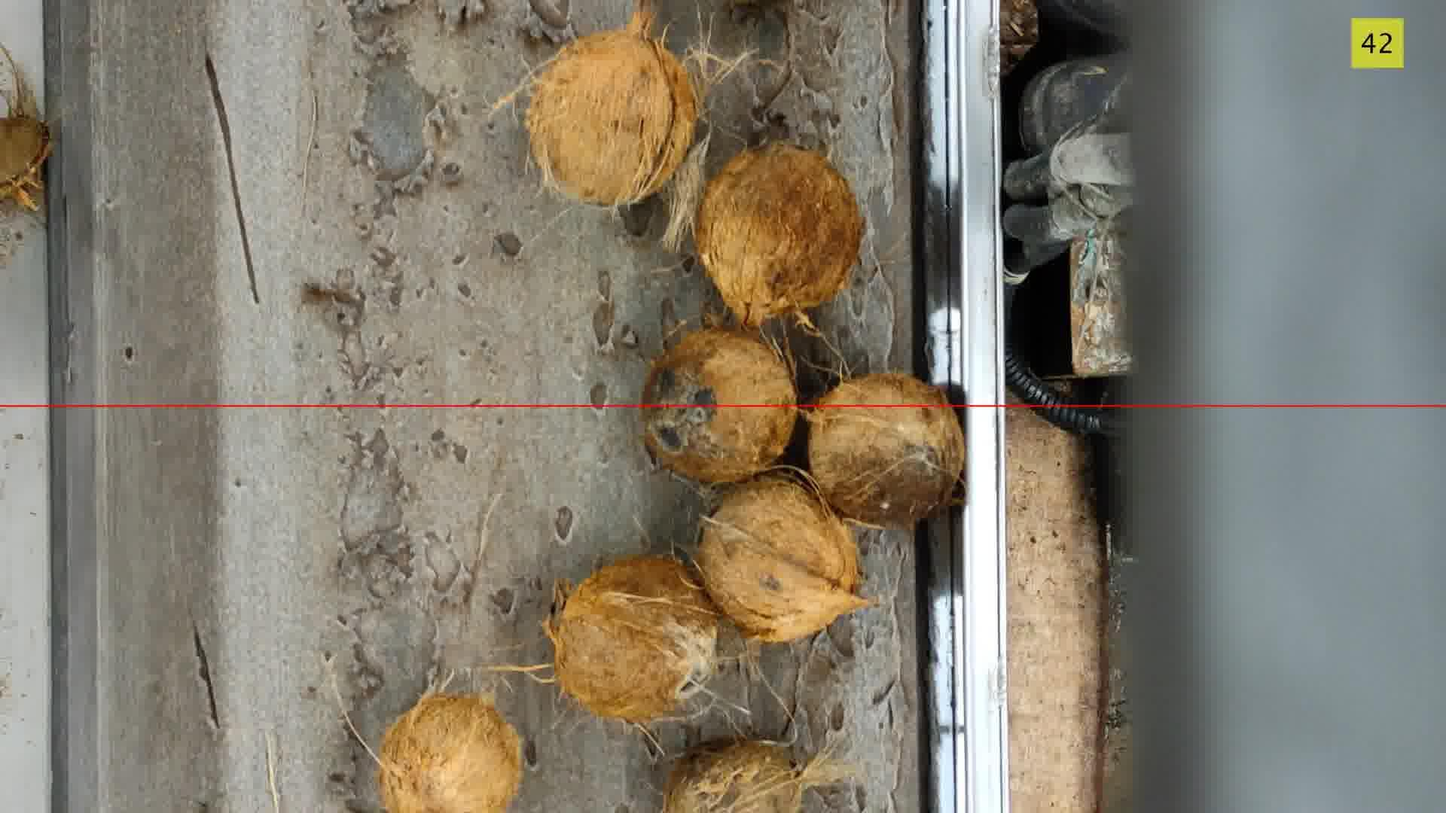Coconut: (526, 5, 698, 206), (696, 142, 863, 326), (545, 556, 718, 722), (696, 475, 867, 641), (807, 373, 965, 528), (642, 327, 797, 482), (378, 694, 520, 812), (664, 740, 847, 812), (0, 46, 51, 209)
